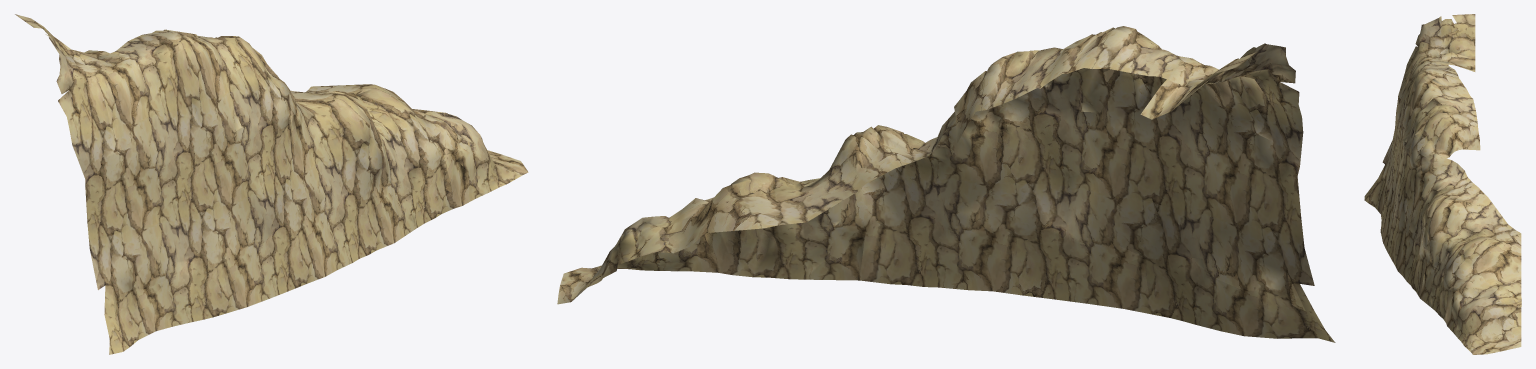
3 renders of one model, left to right at view 1: azimuth 30°, elevation 25°; view 2: azimuth 150°, elevation 25°; view 3: azimuth 270°, elevation 25°, orthographic. The views are drawn at different scales.
Visible parts, largest first — view 1: sa00zrock02_001; view 2: sa00zrock02_001; view 3: sa00zrock02_001.
Boxes of the visible parts, x1,y1,x2,y2 form: sa00zrock02_001: (15, 14, 528, 354); sa00zrock02_001: (557, 26, 1335, 342); sa00zrock02_001: (1364, 14, 1521, 354).
Bounding box in the file's own units: 320 × 166 × 131.
Materials: 1 (1 with a texture image).
